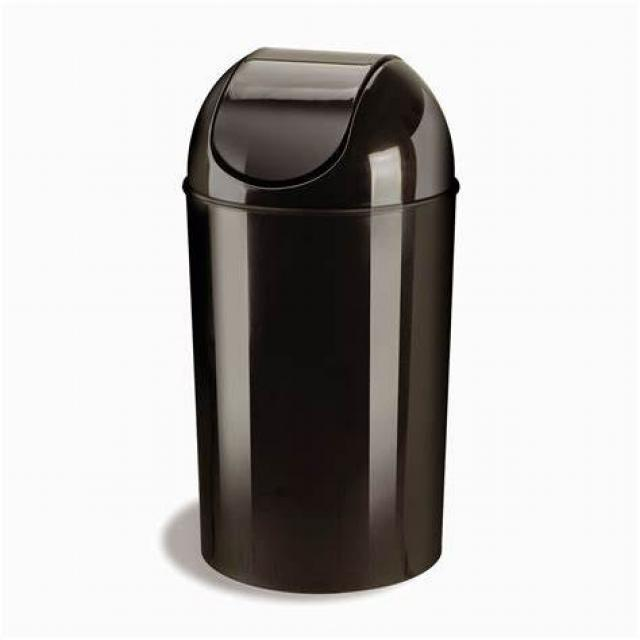garbage container: (130, 34, 492, 606)
